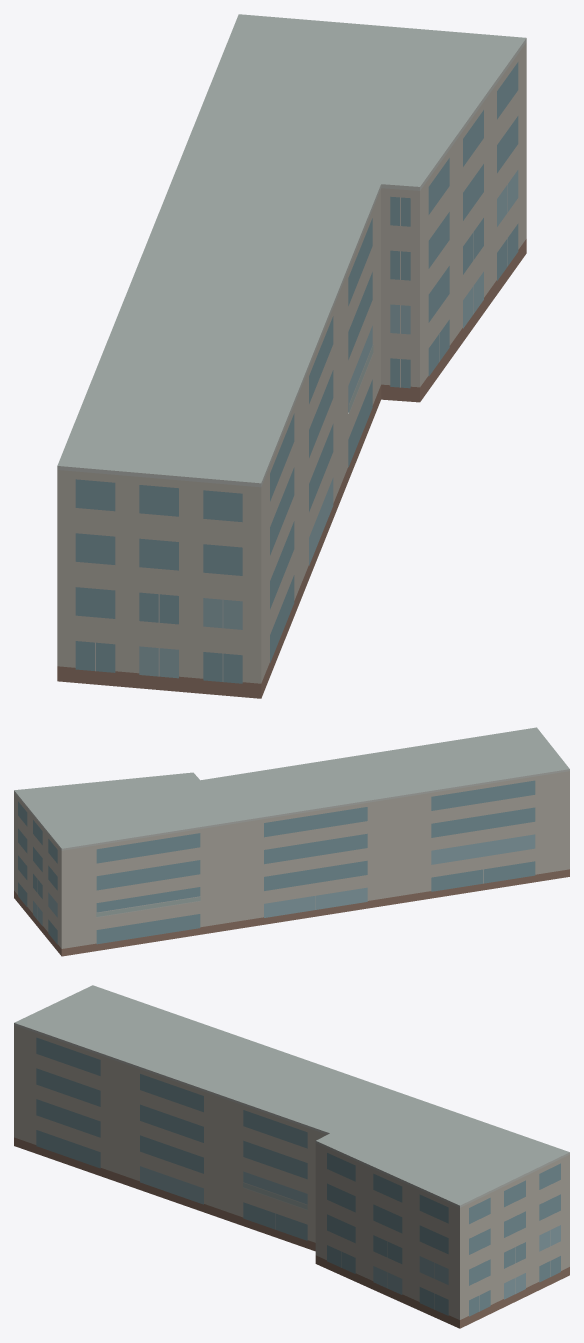
Rendered from survey-upis-32521124.glb.
3 renders of one model, top to bottom at view 1: azimuth 30°, elevation 25°; view 2: azimuth 150°, elevation 25°; view 3: azimuth 270°, elevation 25°, orthographic. The views are drawn at different scales.
Visible parts, largest first — view 1: survey-upis-32521124.tmp; view 2: survey-upis-32521124.tmp; view 3: survey-upis-32521124.tmp.
Boxes of the visible parts, left/top/right/bottom form: survey-upis-32521124.tmp: left=57, top=14, right=526, bottom=698; survey-upis-32521124.tmp: left=14, top=727, right=569, bottom=956; survey-upis-32521124.tmp: left=14, top=985, right=569, bottom=1328.
Bounding box in the file's own units: 50.16 × 13.06 × 53.45.
